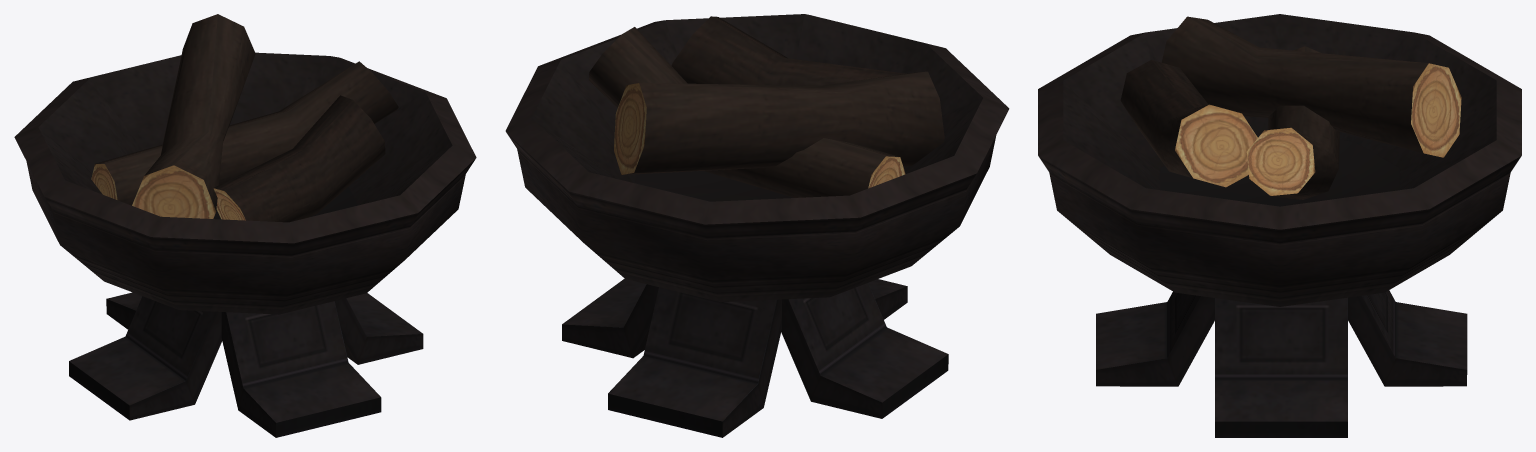
File: Brazier_B.fbx
3 views of the same model, side by side, from view 1: azimuth 30°, elevation 25°; view 2: azimuth 150°, elevation 25°; view 3: azimuth 270°, elevation 25° (orthographic). The views are drawn at different scales.
Parts seen in each view (by area): view 1: Brazier_B; view 2: Brazier_B; view 3: Brazier_B.
Boxes of the visible parts, box(x1,y1,x2,y2) form: Brazier_B: box(14, 14, 476, 437); Brazier_B: box(505, 14, 1009, 437); Brazier_B: box(1038, 14, 1521, 437).
Bounding box in the file's own units: 65.62 × 45.15 × 62.41.
1 material, 1 textured.
